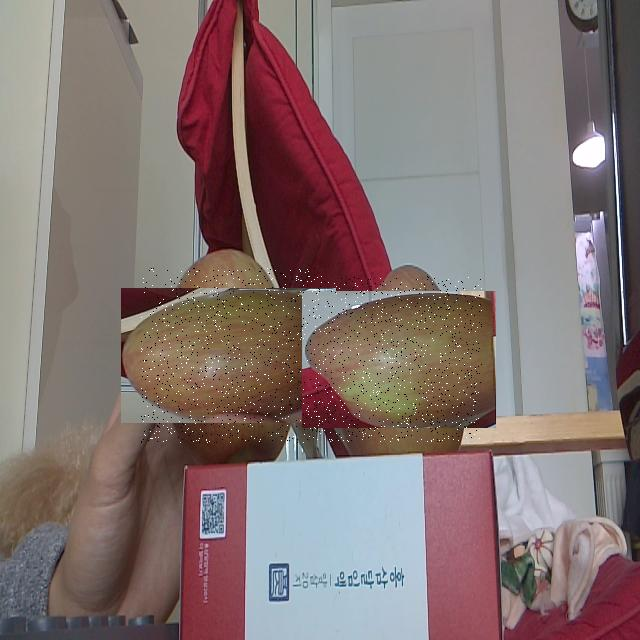apple: (141, 268, 317, 443), (316, 276, 482, 442)
